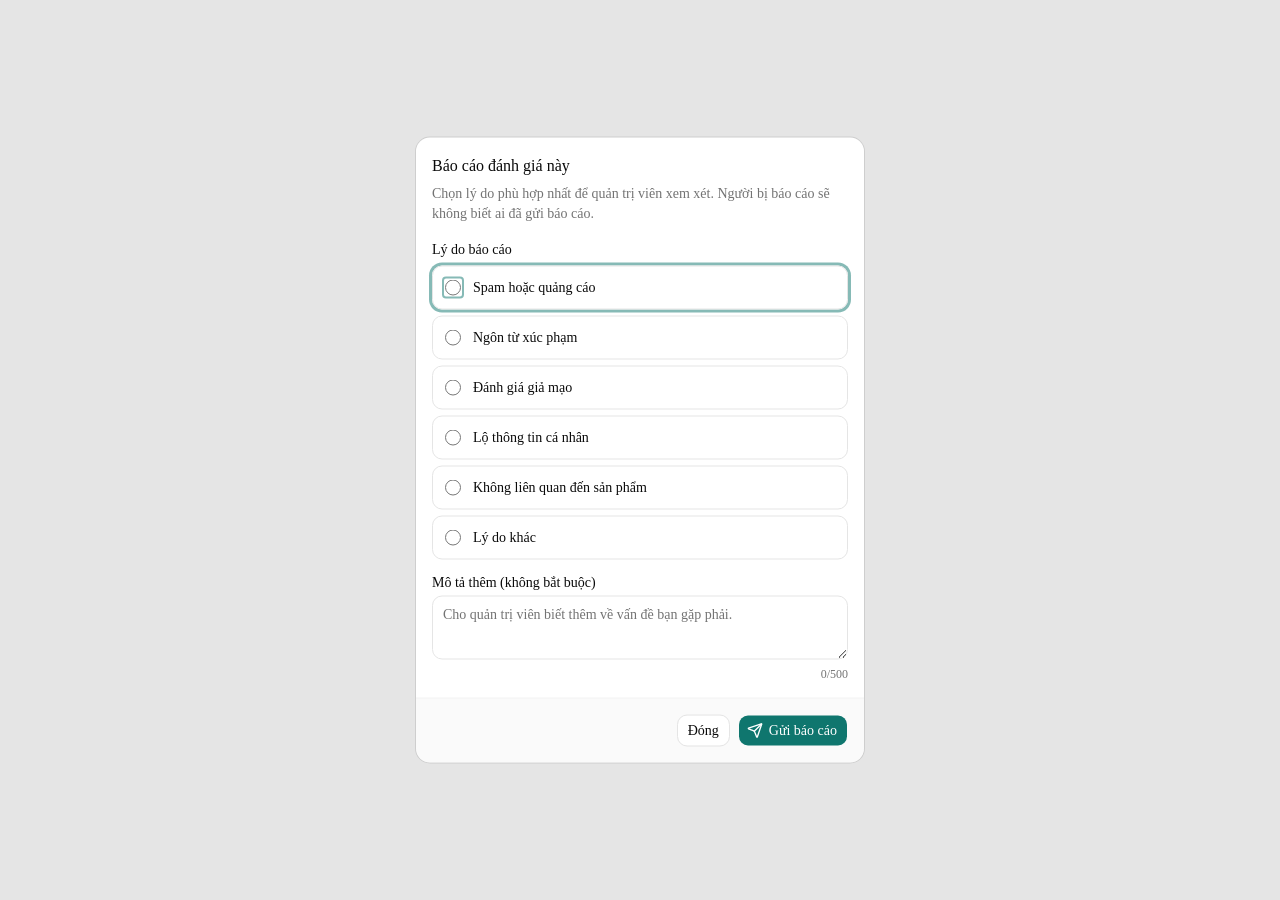
Scenario: ReportDialog — chọn và gửi › chưa chọn lý do: báo "Vui lòng chọn lý do báo cáo." và KHÔNG gửi
Click the button "Gửi báo cáo" at point(793, 730), box [738, 714, 848, 746]
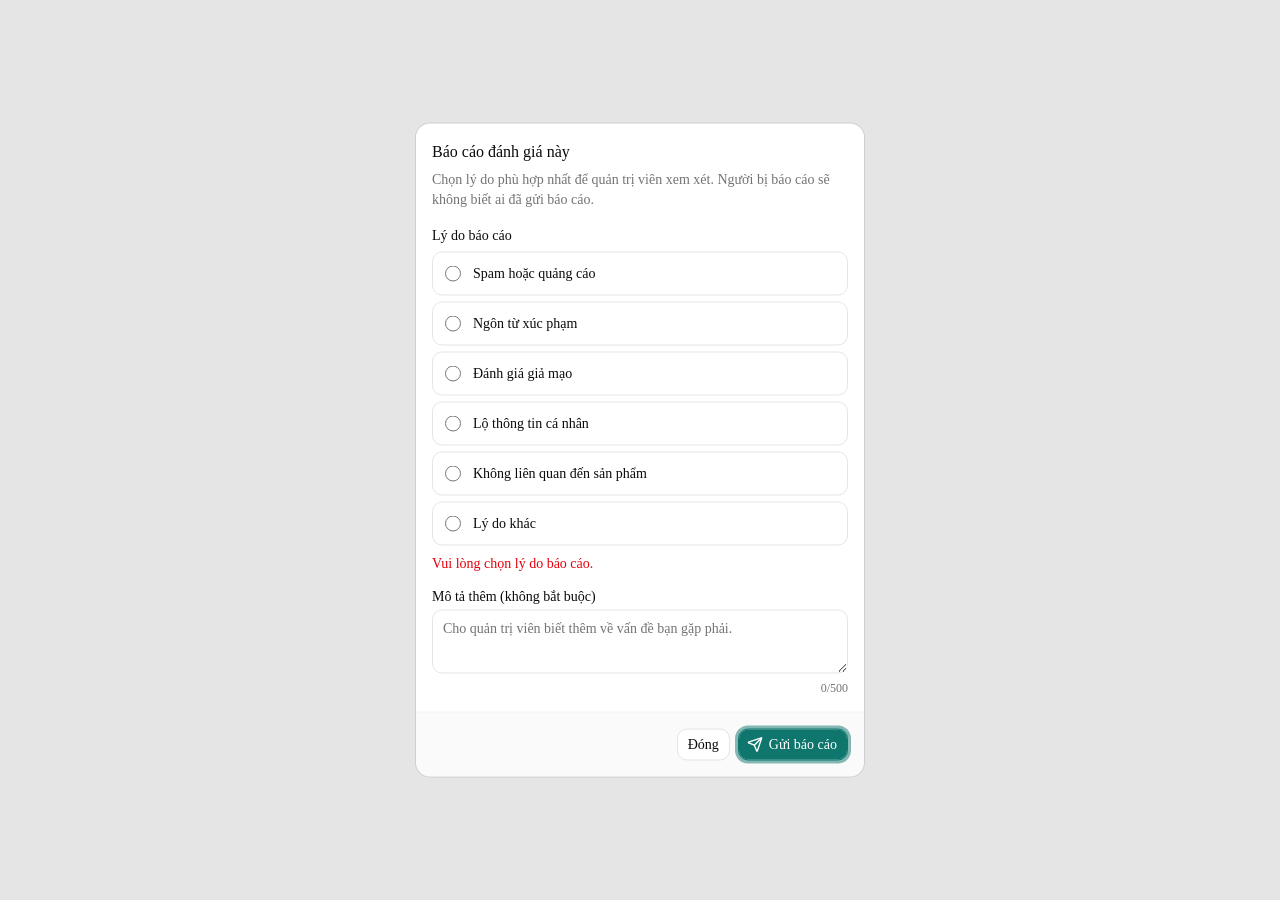
Now the text "Vui lòng chọn lý do báo cáo." is shown, box [432, 556, 593, 570]
